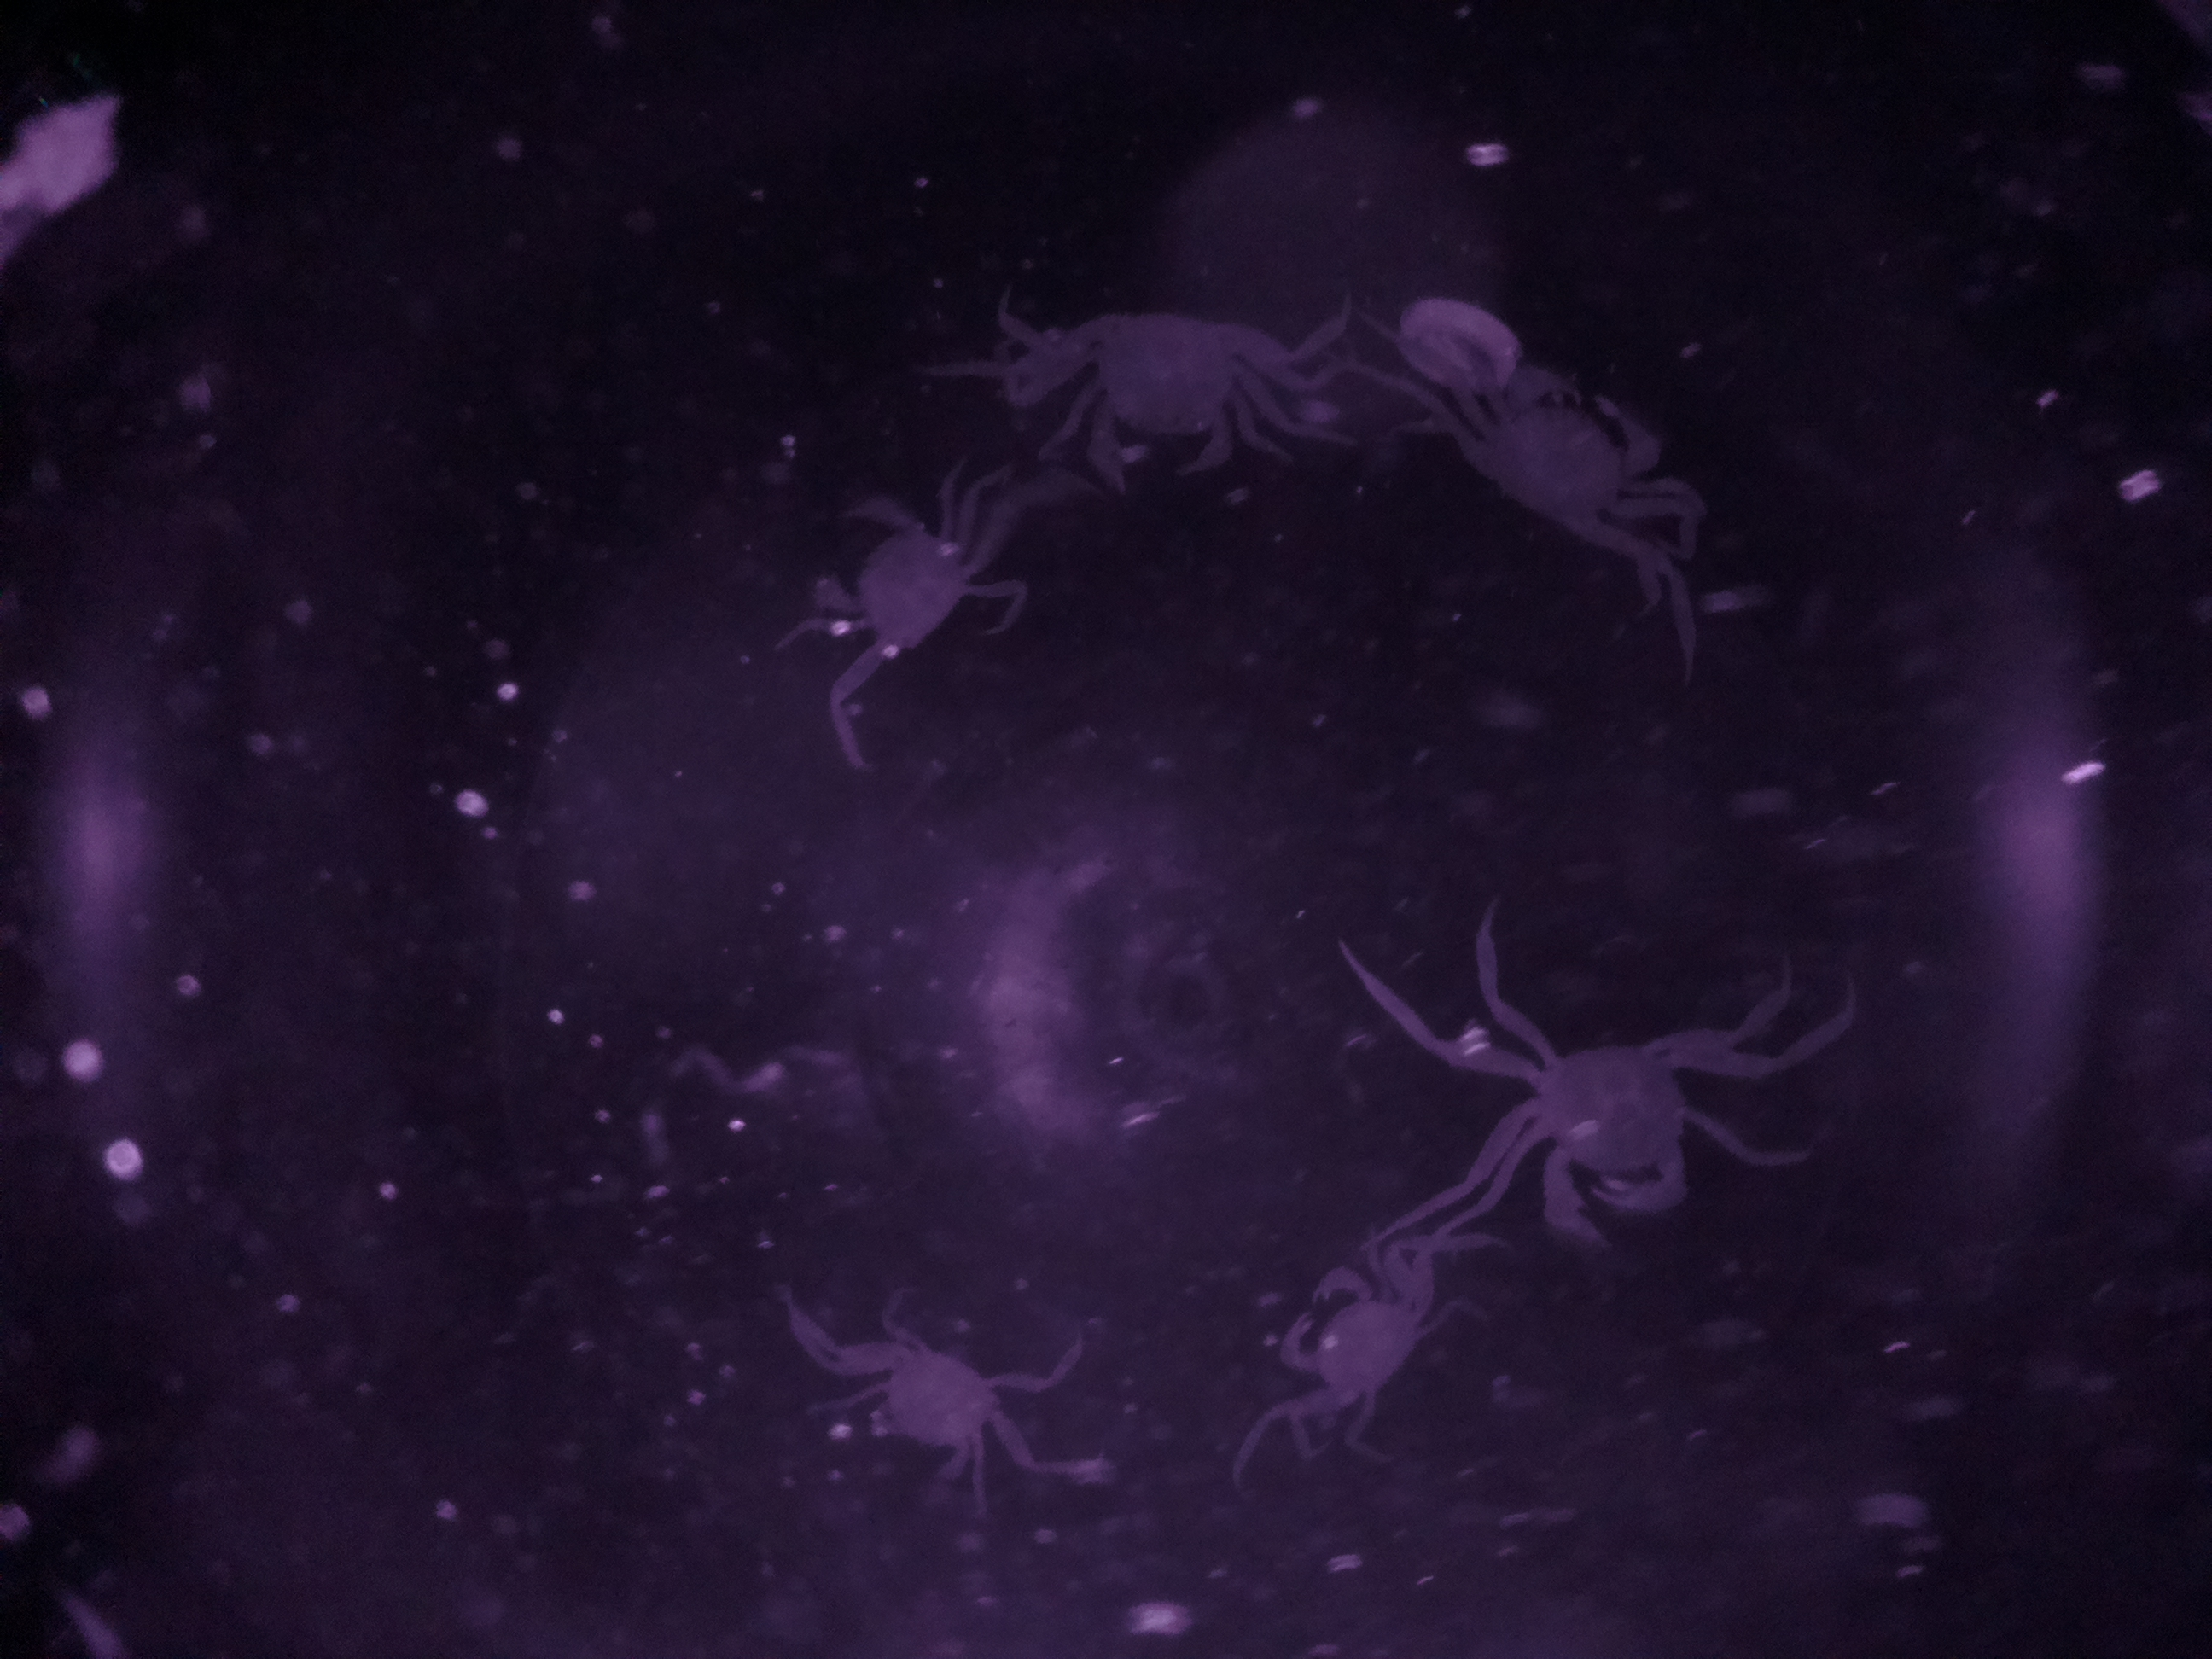Crab: (1447, 999, 1789, 1267), (1029, 279, 1312, 526), (1418, 345, 1662, 586), (1252, 1249, 1501, 1452), (796, 476, 1022, 694), (829, 1300, 1054, 1518)
